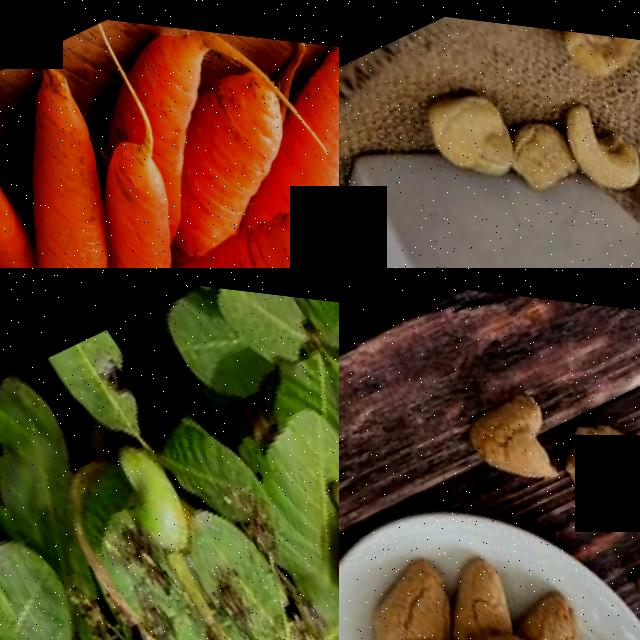carrot: (72, 11, 248, 176), (163, 46, 321, 223), (0, 60, 131, 268), (71, 127, 222, 268), (253, 27, 339, 199), (196, 190, 339, 268), (0, 97, 49, 268)
cashew: (95, 423, 211, 560), (535, 63, 640, 214), (412, 62, 526, 183), (546, 20, 640, 104), (339, 97, 377, 265), (314, 452, 339, 546)
